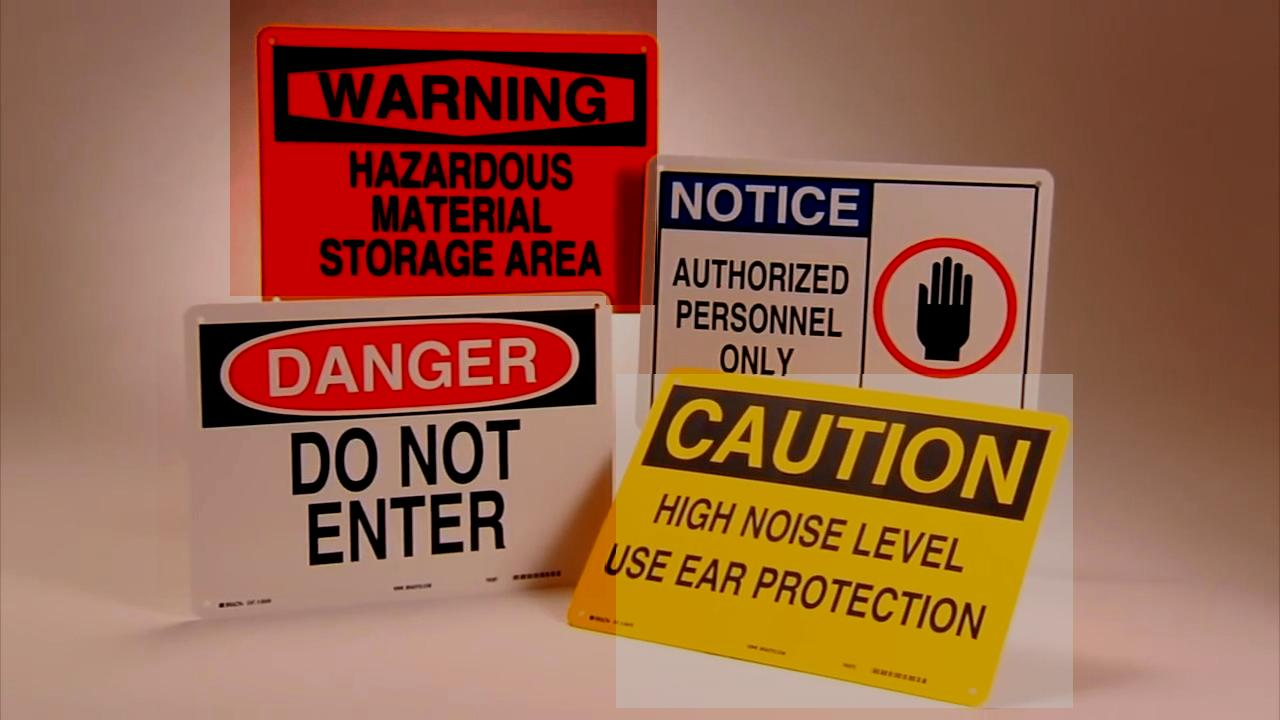safety_signage: (617, 374, 1074, 708), (158, 296, 607, 598), (231, 0, 658, 305)
